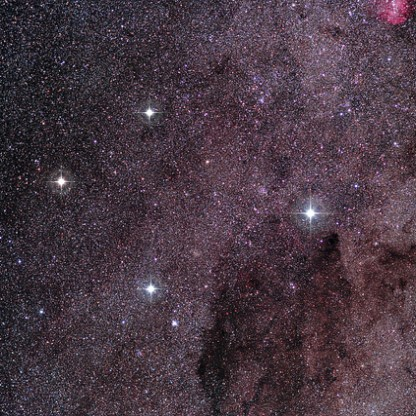Southern Cross: (291, 192, 334, 235), (43, 163, 74, 202), (134, 271, 165, 305), (133, 101, 161, 124)
